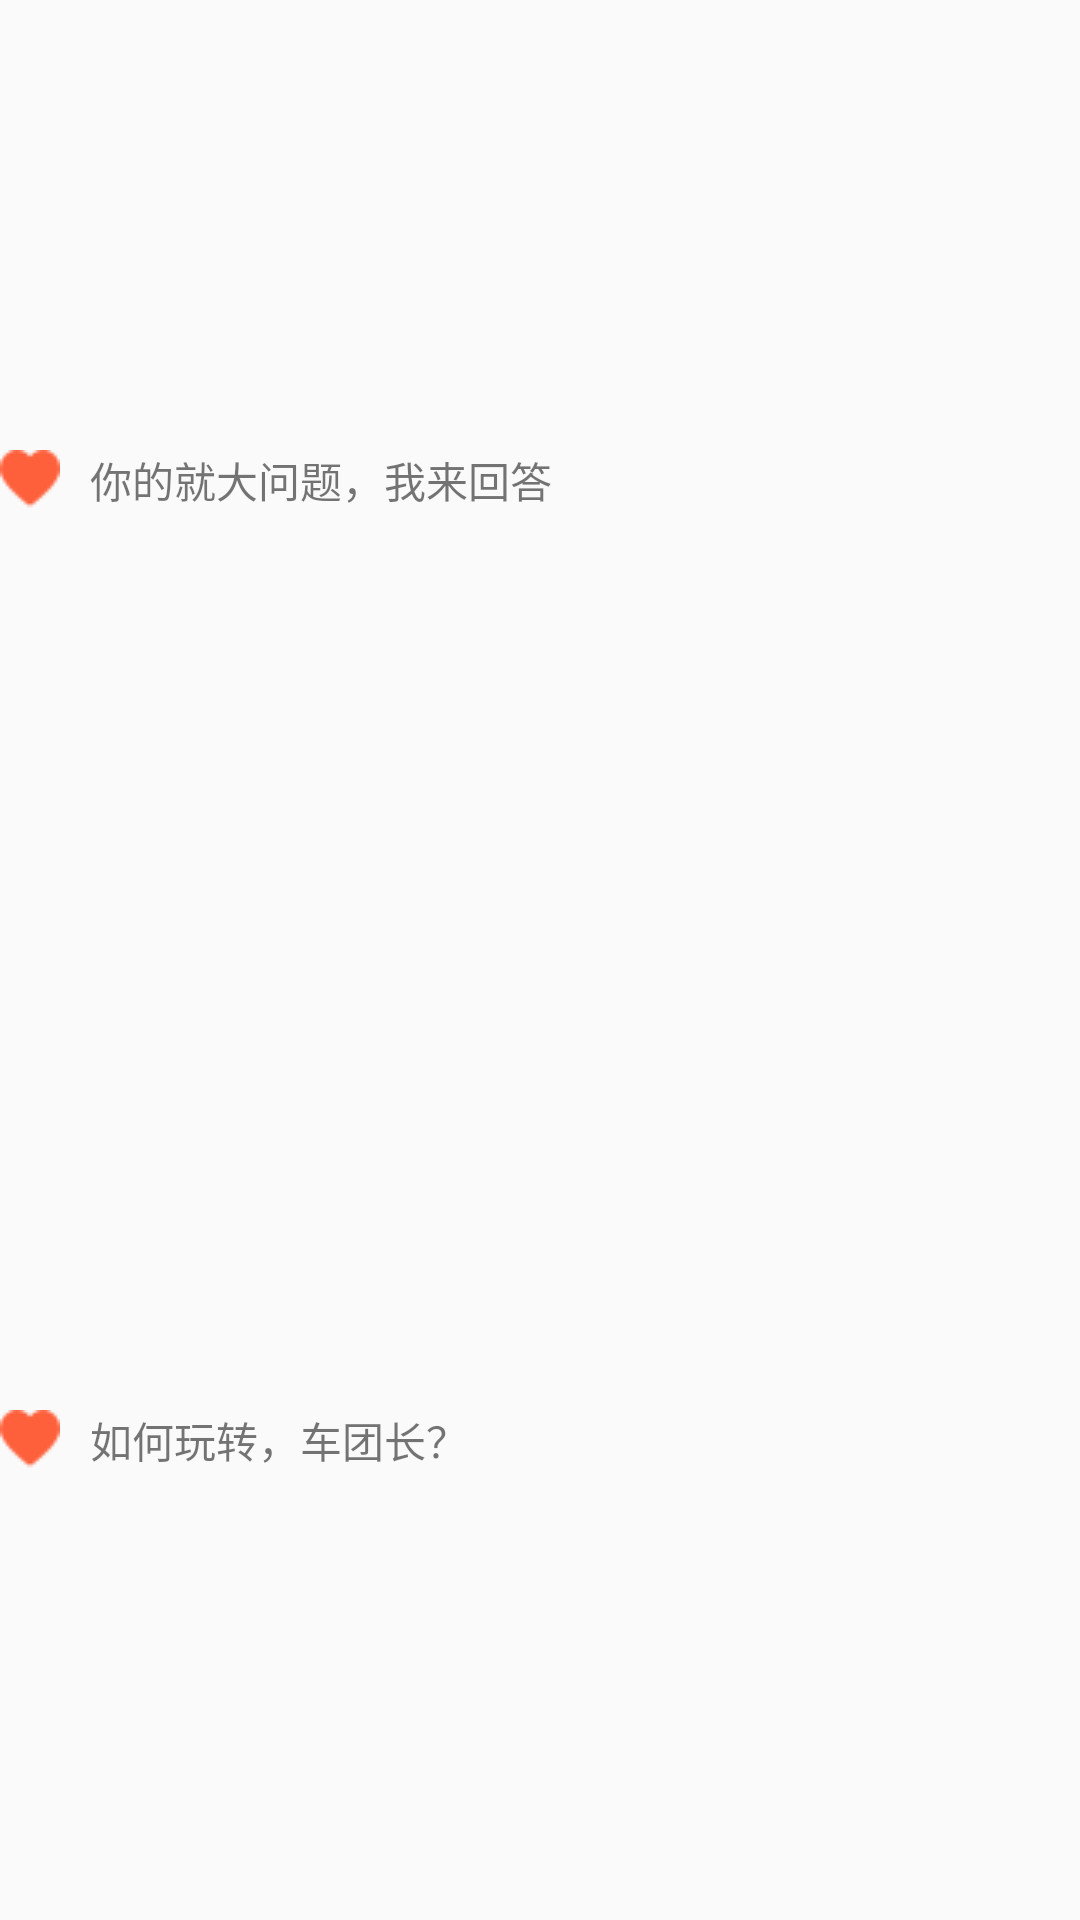

Screen size 1080px×1920px. Icon name, then its center in pixels as (x=x, y=y):
aixin: (x=30, y=478), (x=30, y=1438)
